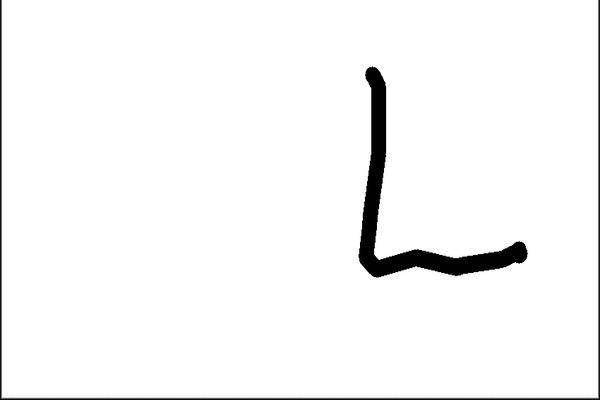L: (346, 57, 535, 284)
